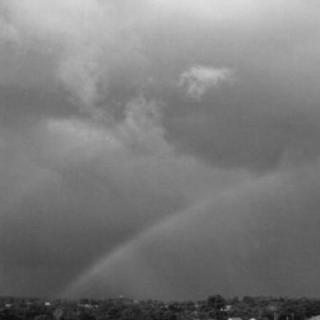Stratocumulus: (0, 0, 320, 296)
